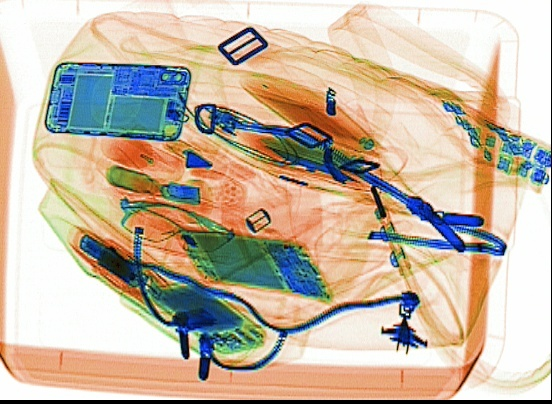powerbank: (145, 277, 270, 355)
